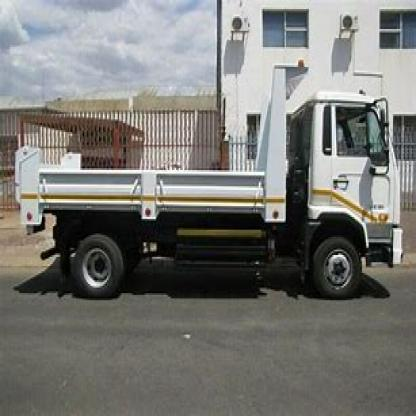dump_truck: (3, 47, 410, 302)
